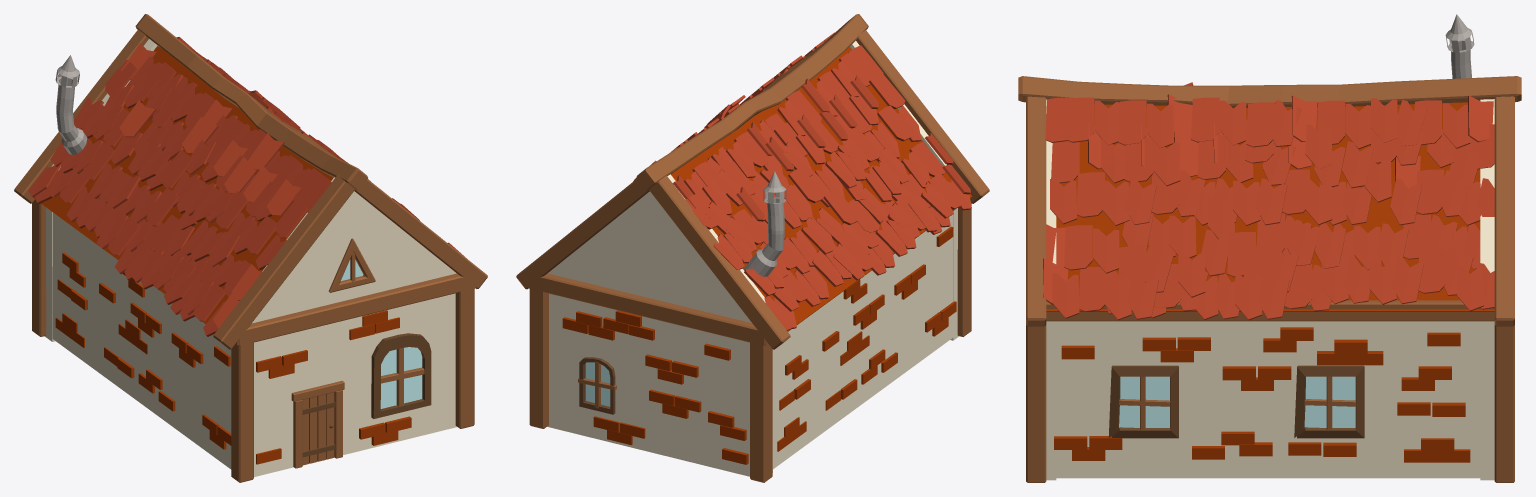
File: hatka_s_krisheyg2aaaaaa.fbx
The picture shows the model from 3 angles, left to right: view 1: azimuth 30°, elevation 25°; view 2: azimuth 150°, elevation 25°; view 3: azimuth 270°, elevation 25°; orthographic projection. The views are drawn at different scales.
Visible parts, largest first — view 1: Cube.348, Plane, Plane.004, Cube.024, Cube.063, Cube.011, Plane.002, Cube.002, Cube, Cube.110, Cube.007, Cube.001 (+12 smaller); view 2: Cube.348, Plane.005, Plane.004, Cube.110, Cube.024, Cube.063, Plane.002, Cube.014, Cube.023, Cube.012, Cube.011, Cube.019 (+6 smaller); view 3: Cube.348, Plane.003, Cube.074, Cube.024, Plane.001, Cube.017, Cube.019, Cube.007, Cube.001, Cube.013, Plane.012, Plane.011 (+5 smaller).
Part boxes in pixels (left/top/right/bottom): Cube.348: left=28, top=37, right=466, bottom=336; Plane: left=252, top=177, right=456, bottom=476; Plane.004: left=52, top=212, right=231, bottom=469; Cube.024: left=135, top=14, right=367, bottom=190; Cube.063: left=55, top=252, right=231, bottom=449; Cube.011: left=213, top=174, right=354, bottom=349; Plane.002: left=31, top=46, right=333, bottom=323; Cube.002: left=235, top=273, right=476, bottom=345; Cube: left=231, top=342, right=253, bottom=482; Cube.110: left=256, top=310, right=411, bottom=464; Cube.007: left=354, top=179, right=487, bottom=288; Cube.001: left=455, top=288, right=474, bottom=428; Cube.348: left=633, top=32, right=971, bottom=330; Plane.005: left=547, top=174, right=773, bottom=476; Plane.004: left=773, top=211, right=953, bottom=468; Cube.110: left=562, top=310, right=748, bottom=464; Cube.024: left=636, top=14, right=868, bottom=190; Cube.063: left=777, top=226, right=956, bottom=451; Plane.002: left=671, top=47, right=972, bottom=331; Cube.014: left=528, top=273, right=768, bottom=345; Cube.023: left=649, top=175, right=790, bottom=349; Cube.012: left=750, top=342, right=772, bottom=482; Cube.011: left=856, top=30, right=989, bottom=203; Cube.019: left=516, top=179, right=649, bottom=289; Cube.348: left=1043, top=82, right=1494, bottom=320; Plane.003: left=1046, top=321, right=1494, bottom=478; Cube.074: left=1054, top=327, right=1470, bottom=462; Cube.024: left=1018, top=76, right=1521, bottom=108; Plane.001: left=1046, top=102, right=1494, bottom=311; Cube.017: left=1046, top=300, right=1494, bottom=321; Cube.019: left=1494, top=96, right=1514, bottom=326; Cube.007: left=1026, top=96, right=1046, bottom=326; Cube.001: left=1026, top=325, right=1046, bottom=482; Cube.013: left=1494, top=325, right=1514, bottom=482; Plane.012: left=1294, top=365, right=1364, bottom=438; Plane.011: left=1108, top=365, right=1178, bottom=438.
Size of what is drawn, in the model's own units: 457 by 475 by 630.
